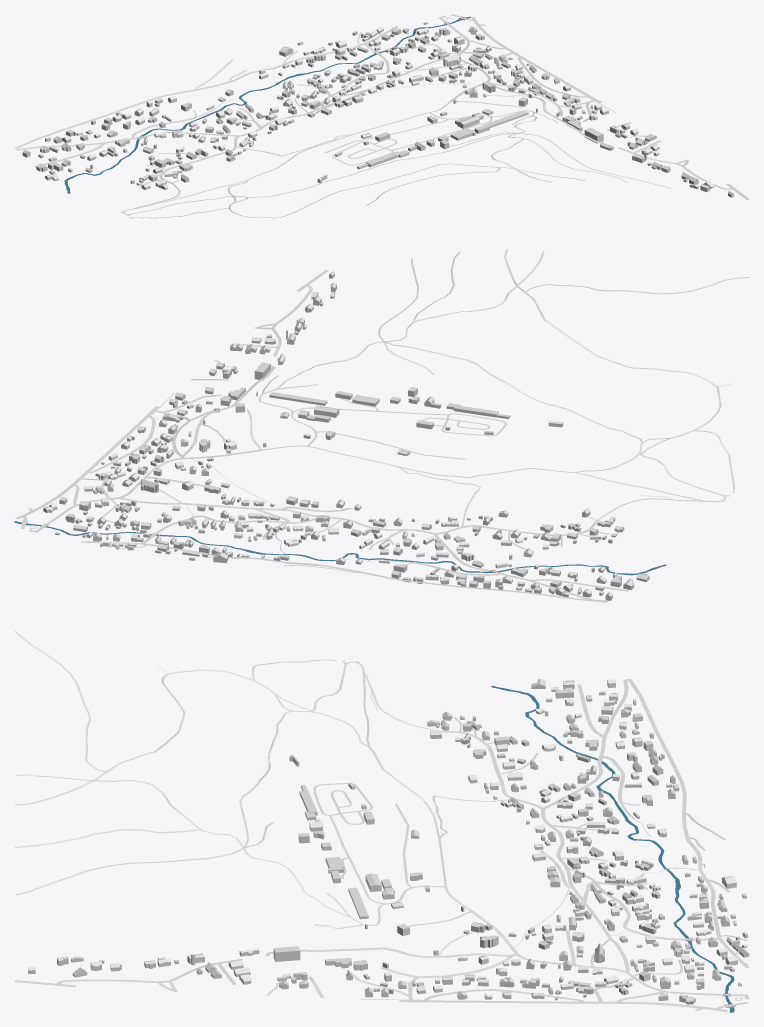
Rendered from objekty.glb.
3 renders of one model, top to bottom at view 1: azimuth 30°, elevation 25°; view 2: azimuth 150°, elevation 25°; view 3: azimuth 270°, elevation 25°, orthographic. The views are drawn at different scales.
Visible parts, largest first — view 1: Budovy_08_02, Cesty_08_02, Okna_Dvere_08_02, Voda_08_02; view 2: Budovy_08_02, Cesty_08_02, Okna_Dvere_08_02, Voda_08_02; view 3: Budovy_08_02, Cesty_08_02, Okna_Dvere_08_02, Voda_08_02.
Part boxes in pixels (left/top/right/bottom): Budovy_08_02: left=22, top=22, right=733, bottom=197; Cesty_08_02: left=14, top=14, right=749, bottom=219; Okna_Dvere_08_02: left=23, top=29, right=733, bottom=196; Voda_08_02: left=64, top=16, right=471, bottom=193; Budovy_08_02: left=43, top=271, right=649, bottom=600; Cesty_08_02: left=15, top=249, right=749, bottom=602; Okna_Dvere_08_02: left=43, top=275, right=647, bottom=599; Voda_08_02: left=14, top=521, right=666, bottom=575; Budovy_08_02: left=28, top=679, right=749, bottom=1004; Cesty_08_02: left=14, top=631, right=749, bottom=1011; Okna_Dvere_08_02: left=29, top=682, right=748, bottom=1003; Voda_08_02: left=491, top=685, right=734, bottom=1012.
Size of the model in its own units: 1012 by 213 by 1007.
